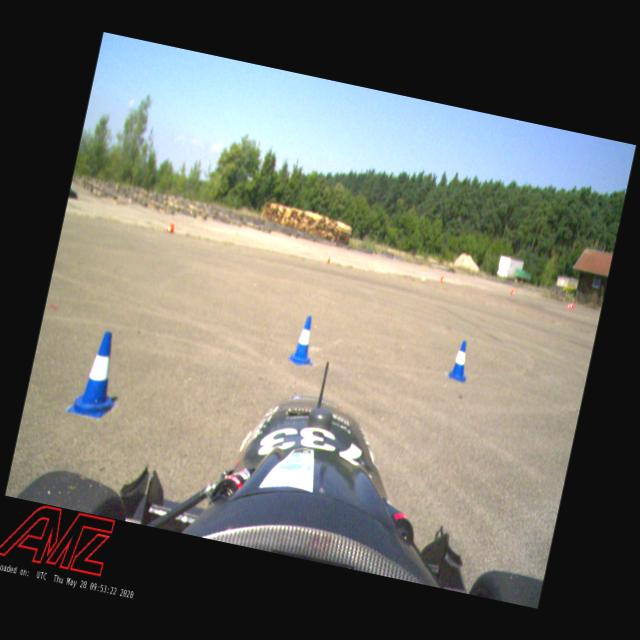blue_cone: (63, 325, 129, 424), (285, 311, 323, 369), (446, 338, 474, 383)
orange_cone: (164, 221, 174, 233), (326, 256, 334, 266), (566, 301, 574, 310), (440, 275, 445, 282), (510, 288, 514, 296)
